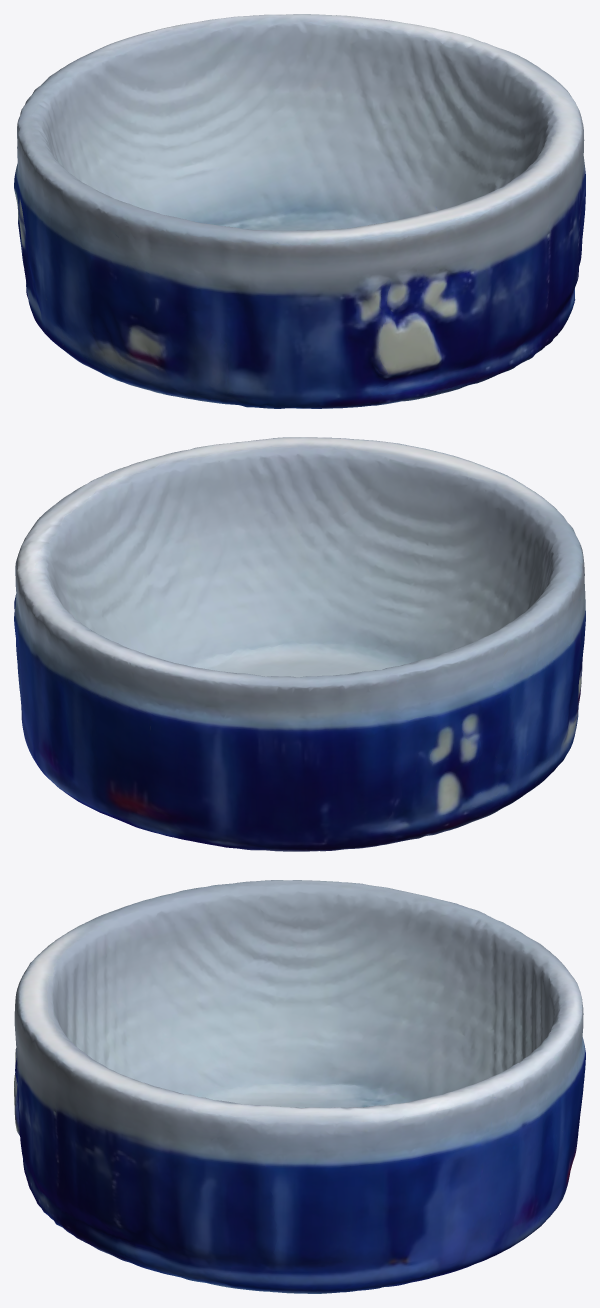
File: Top_Paw_Dog_Bowl_Blue_Paw_Bone_Ceramic_25_fl_oz_total.glb
3 renders of one model, top to bottom at view 1: azimuth 30°, elevation 25°; view 2: azimuth 150°, elevation 25°; view 3: azimuth 270°, elevation 25°, orthographic.
Parts seen in each view (by area): view 1: geometry_0; view 2: geometry_0; view 3: geometry_0.
Part boxes in pixels (bbox=[...]): geometry_0: bbox=[14, 14, 585, 408]; geometry_0: bbox=[14, 437, 585, 851]; geometry_0: bbox=[14, 880, 585, 1293].
Bounding box in the file's own units: 0.9148 × 0.3343 × 0.9172.
Materials: 1 (1 with a texture image).
